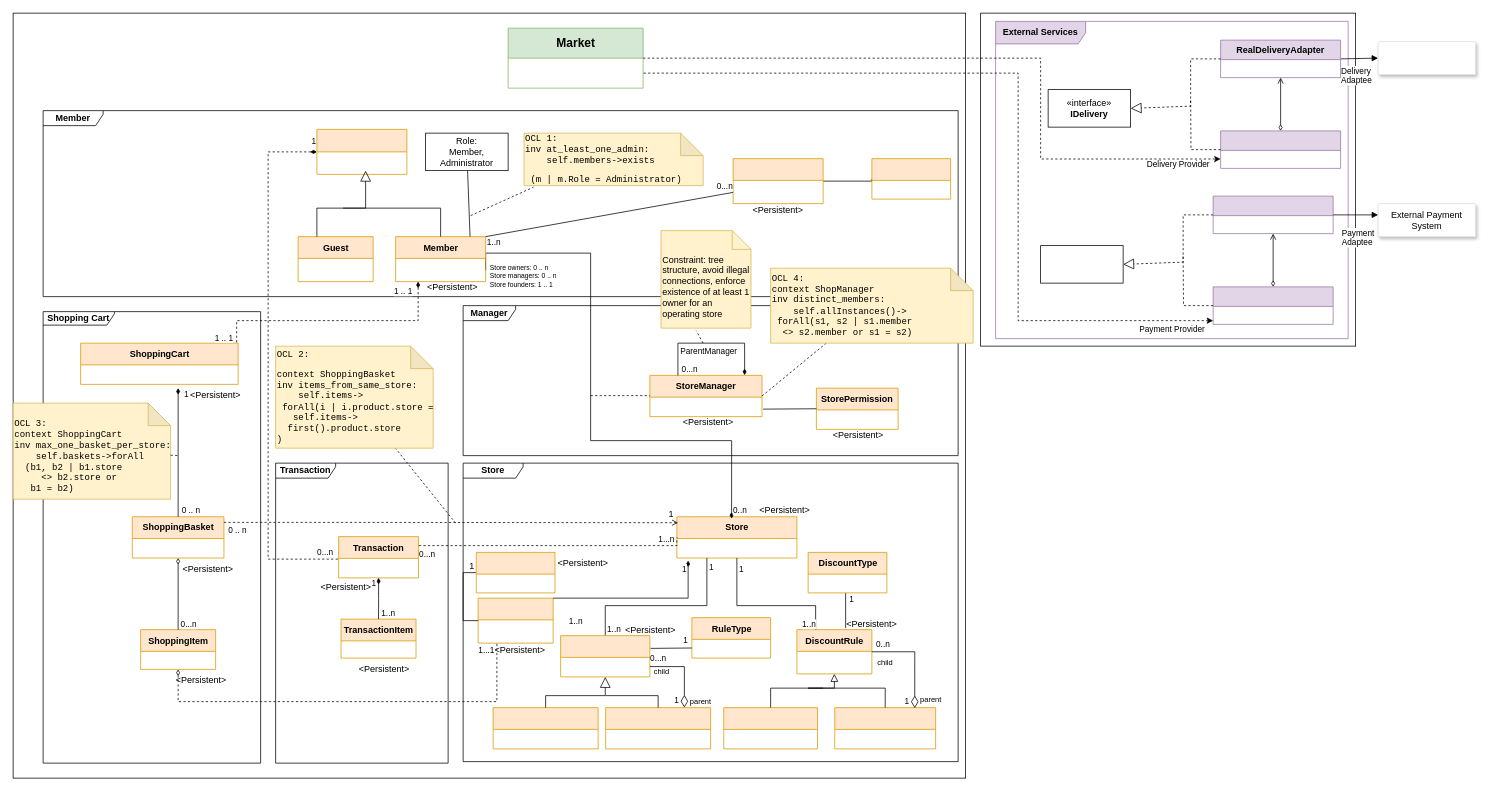
The diagram is 1493 pixels wide and 797 high, and some of its shapes have lost their labels. The centre of each missing label's shape, as x and y in pixels:
Category: point (515, 572)
ComplexDiscounrRule: point (885, 728)
ComplexPurchaseRule: point (658, 728)
DeliveryProxy: point (1280, 149)
External Delivery System: point (1427, 59)
Notification: point (777, 181)
NotificationType: point (911, 178)
PaymentProxy: point (1272, 305)
Product: point (515, 620)
PurchaseRule: point (605, 656)
RealPaymentAdapter: point (1272, 214)
SimpleDiscounrRule: point (770, 728)
SimplePurchaseRule: point (545, 728)
User: point (361, 151)
«interface» IPayment: point (1081, 264)
